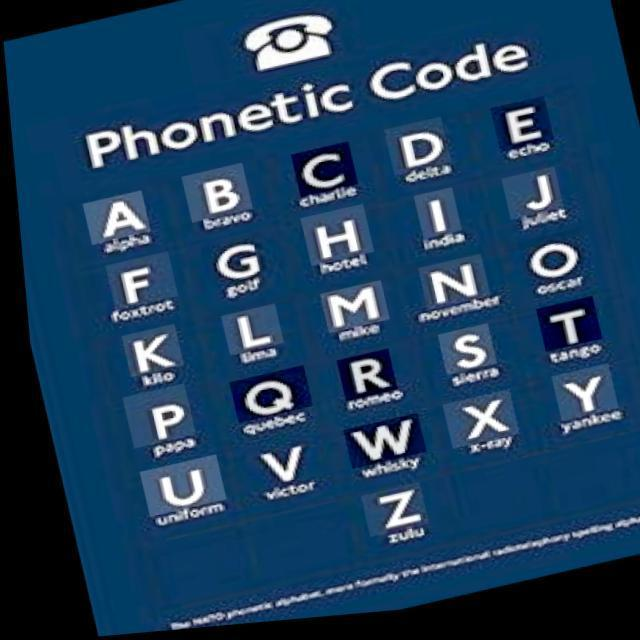B: (195, 175, 244, 218)
I: (421, 195, 463, 243)
J: (521, 170, 563, 222)
K: (122, 330, 178, 376)
M: (324, 293, 386, 327)
O: (525, 241, 583, 280)
Q: (243, 375, 295, 419), (240, 382, 298, 418)
R: (344, 355, 394, 402)
W: (347, 419, 415, 468)
